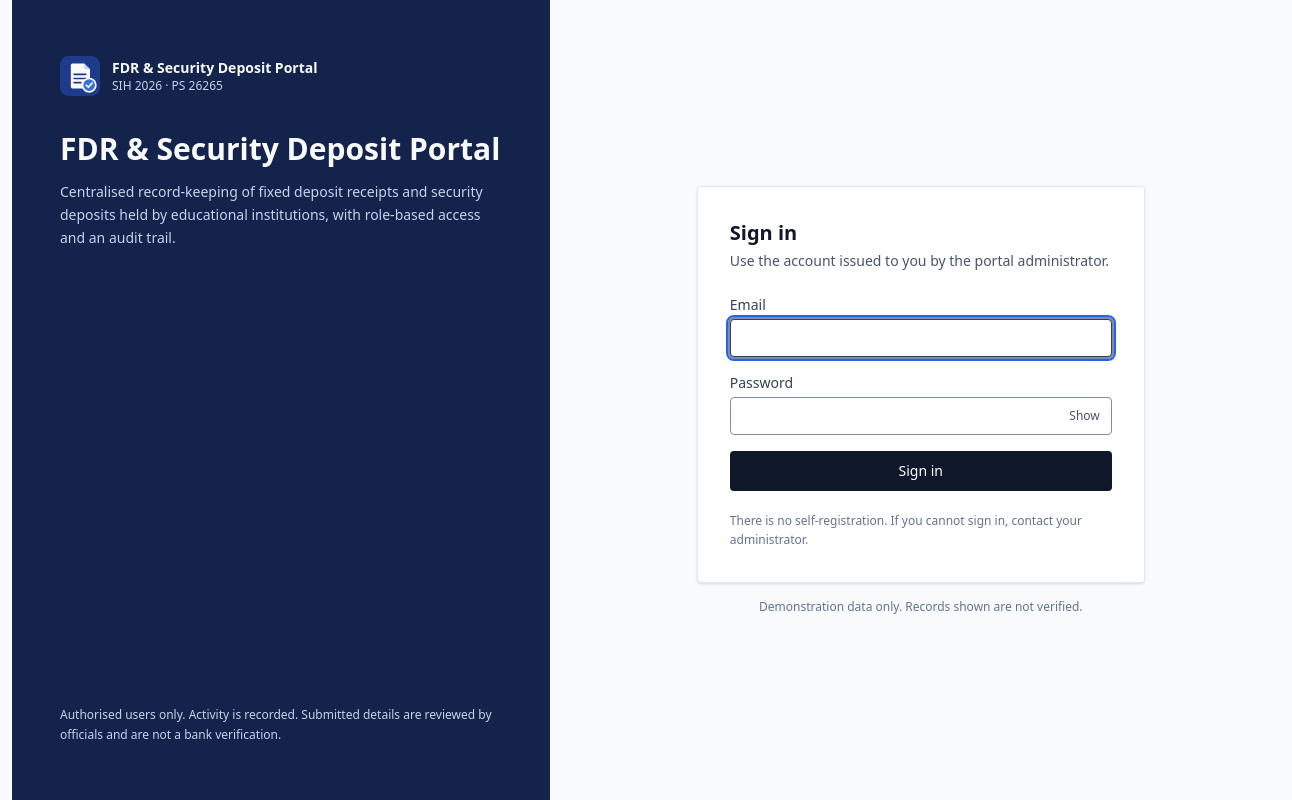
Test: temporary password -> new password -> application › does not send a user who signed out of the change-password page back to it
Expected: the heading "Sign in" is shown, [730,218,797,246]
In the field labelled "Email": (921, 338) [730,318,1112,356], type "admin@example.invalid"
In the password field labelled "Password": (921, 416) [730,396,1112,434], type "temporary-password-1"
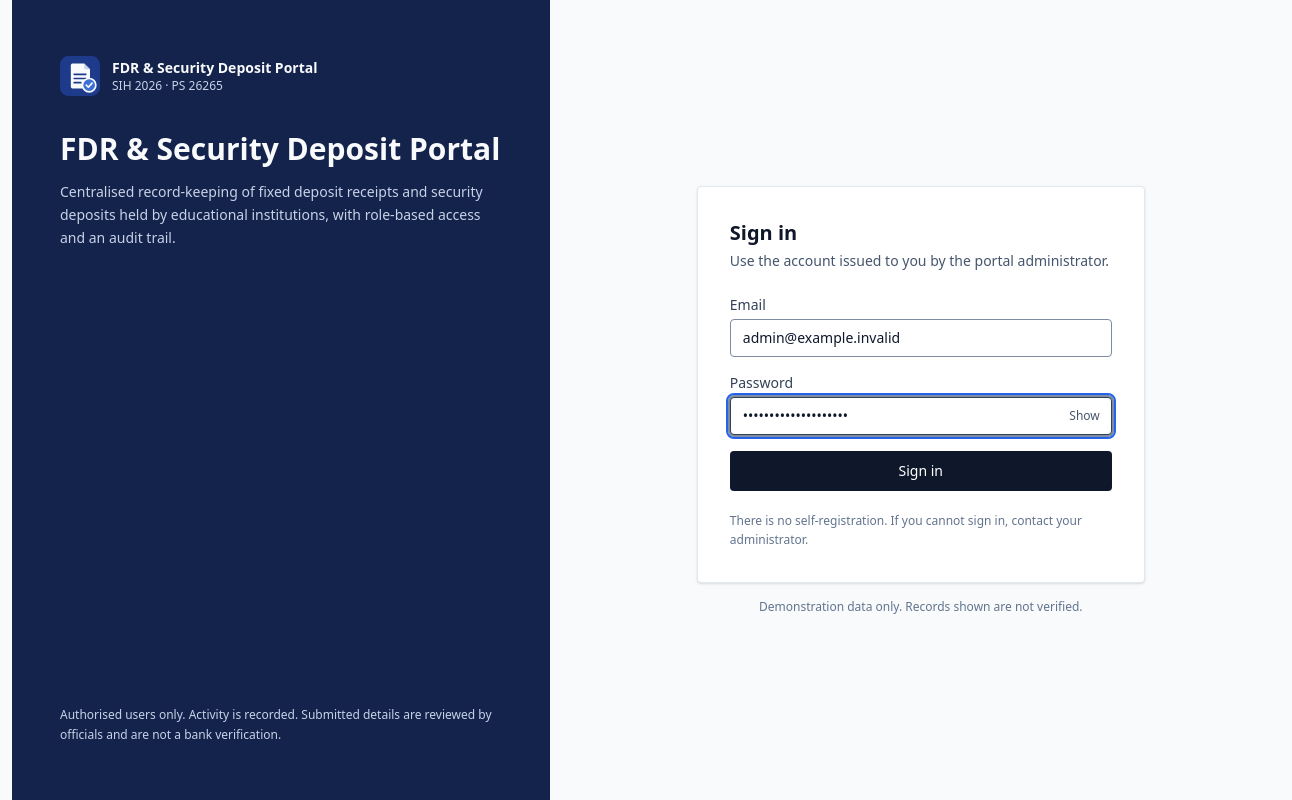
Click the button "Sign in": (921, 470) [730,450,1112,490]
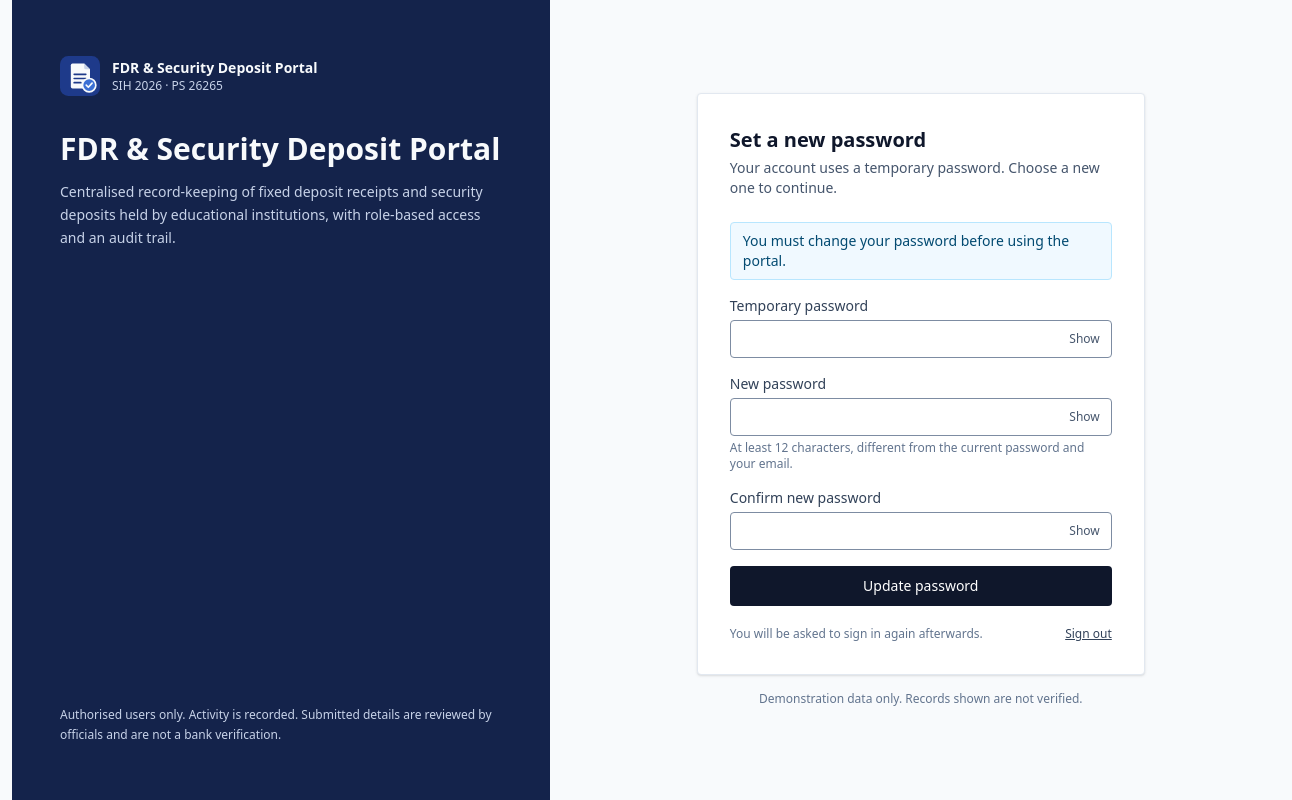
Expected: the heading "Set a new password" is shown, [730,126,926,153]
Click the button "Sign out": (1088, 634) [1065,626,1112,642]
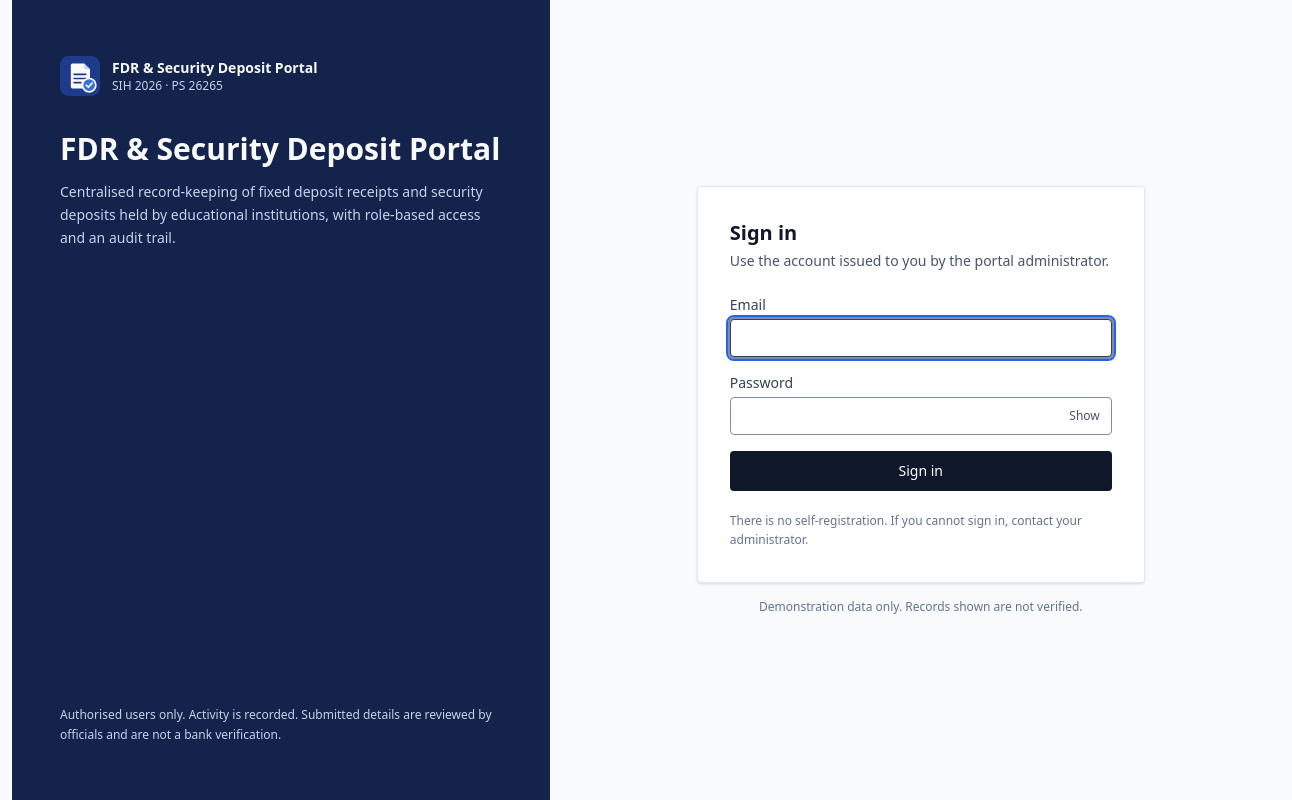
Expected: the heading "Sign in" is shown, [730,218,797,246]
In the field labelled "Email": (921, 338) [730,318,1112,356], type "admin@example.invalid"
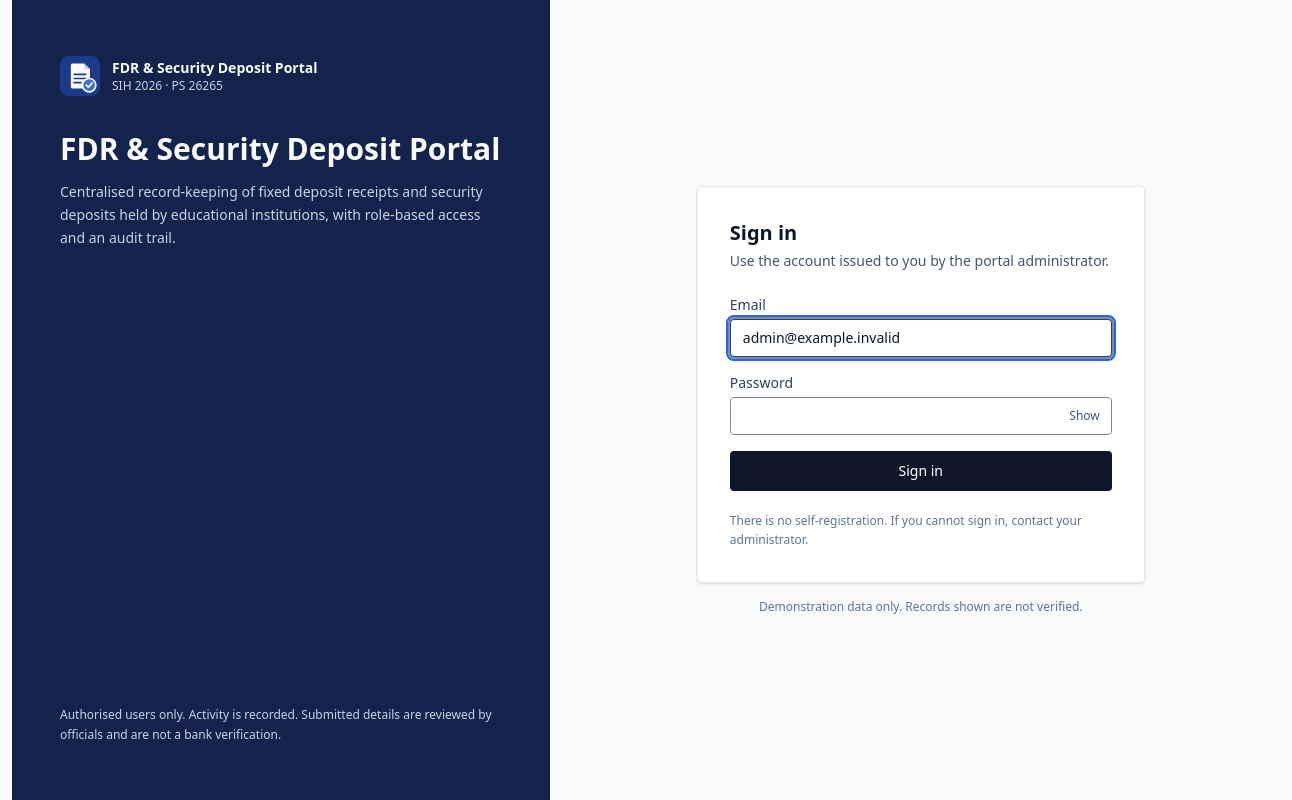
In the password field labelled "Password": (921, 416) [730,396,1112,434], type "temporary-password-1"
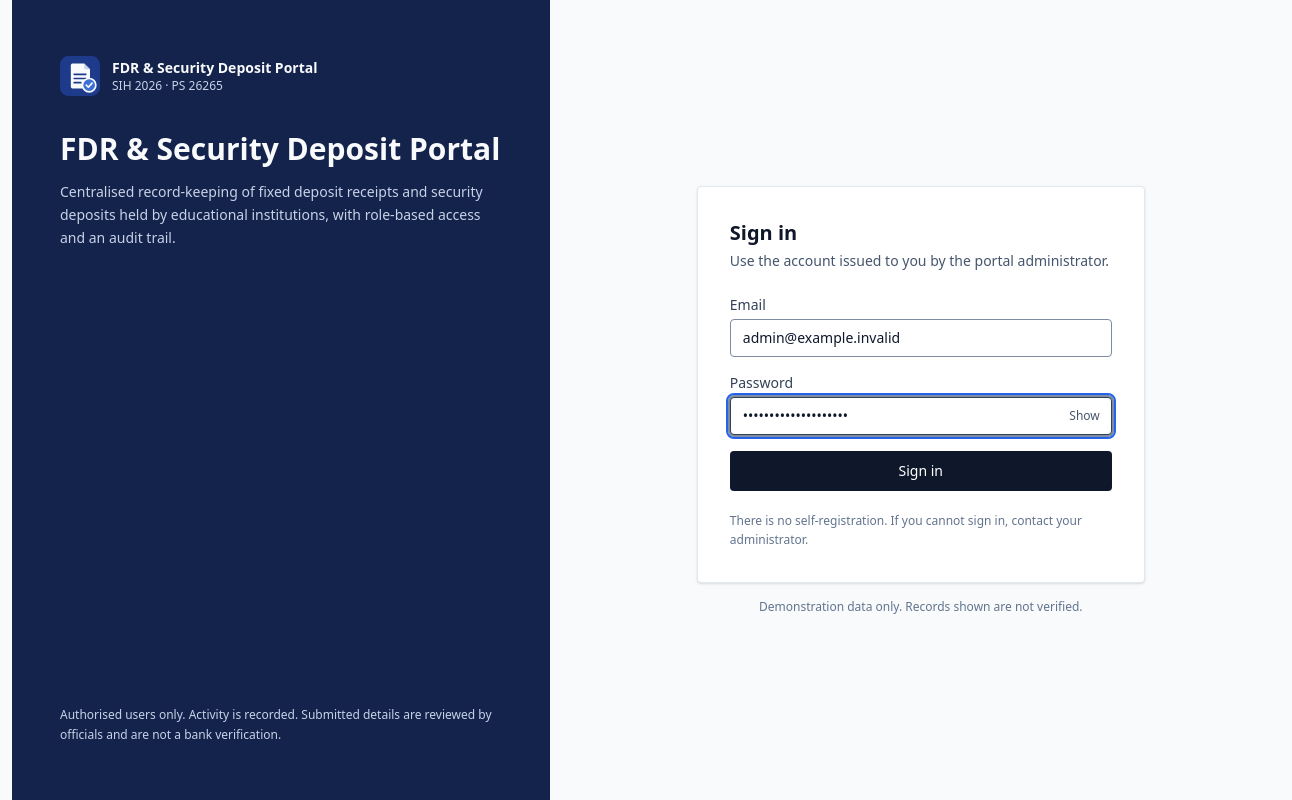
Click the button "Sign in": (921, 470) [730,450,1112,490]
(page scrolled)
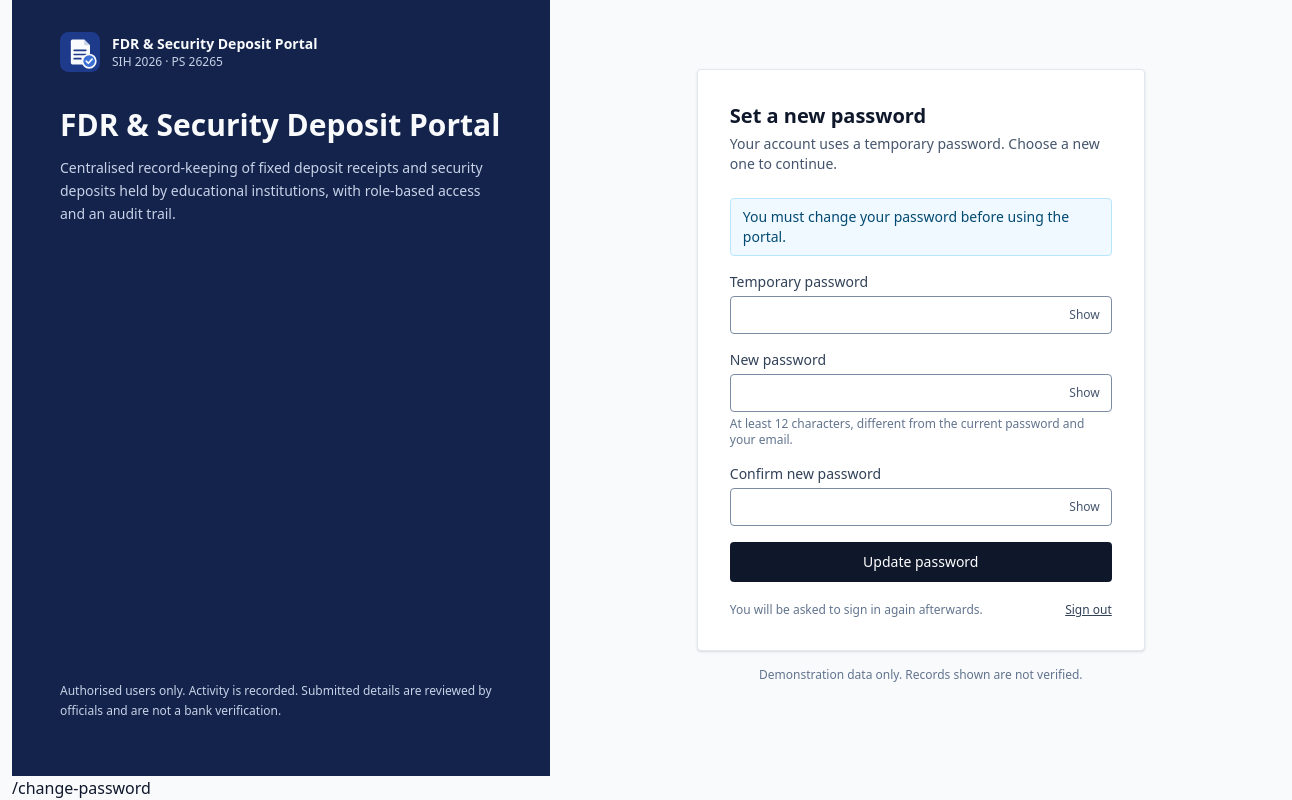
Expected: the heading "Set a new password" is shown, [730,102,926,129]
Expected: the text with test id "location" reads "/change-password", [12,777,151,799]
